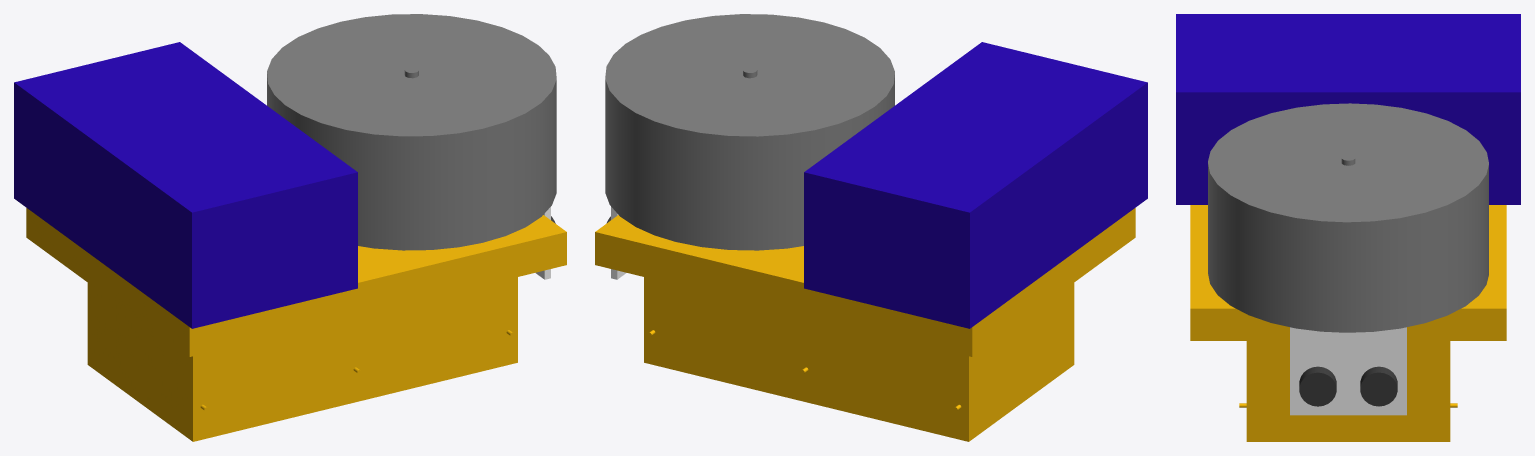
Rendered from chassis.dae.
The picture shows the model from 3 angles, left to right: view 1: azimuth 30°, elevation 25°; view 2: azimuth 150°, elevation 25°; view 3: azimuth 270°, elevation 25°; orthographic projection. The views are drawn at different scales.
Visible parts, largest first — view 1: Mesh (×2), Brep; view 2: Mesh (×2), Brep; view 3: Mesh (×5), Brep.
Boxes of the visible parts, x1,y1,x2,y2 form: Mesh (×2): [26, 14, 566, 441]; Brep: [14, 42, 357, 328]; Mesh (×2): [595, 14, 1135, 441]; Brep: [804, 42, 1147, 328]; Mesh (×5): [1190, 103, 1506, 441]; Brep: [1176, 14, 1520, 204].
Size of the model in its own units: 0.2073 by 0.1471 by 0.1218.
